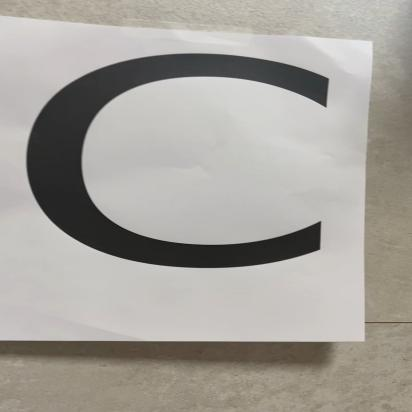seat: (0, 26, 358, 347)
